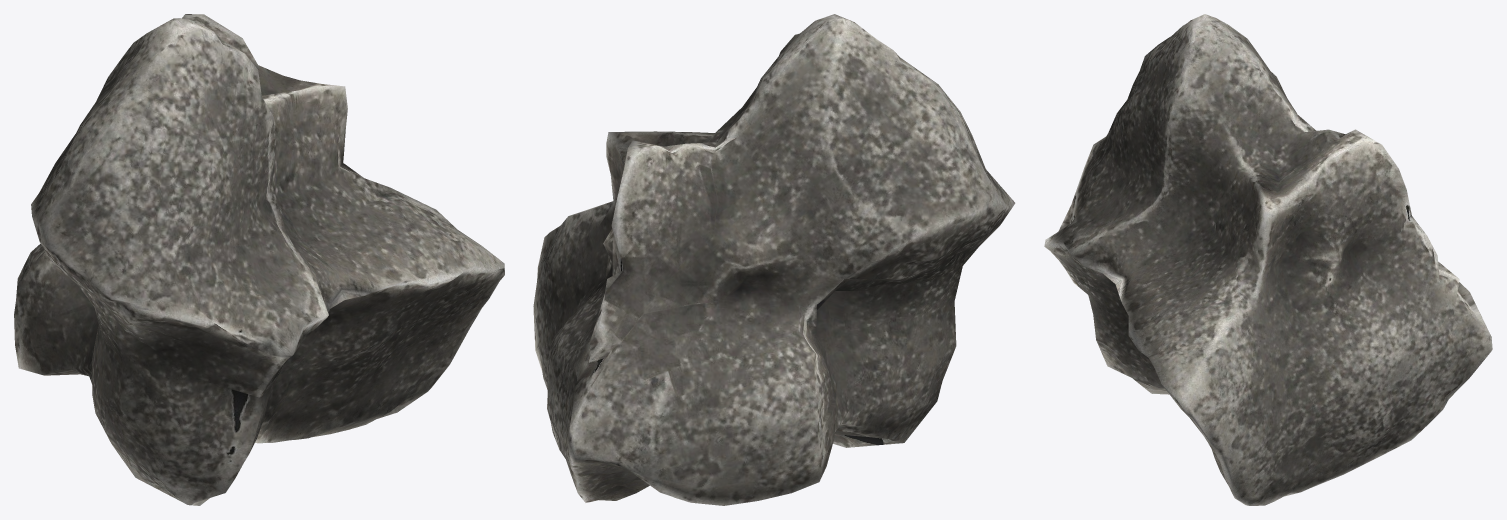
The model's file is rocks_free_essence_node.glb.
The picture shows the model from 3 angles, left to right: view 1: azimuth 30°, elevation 25°; view 2: azimuth 150°, elevation 25°; view 3: azimuth 270°, elevation 25°; orthographic projection. The views are drawn at different scales.
Visible parts, largest first — view 1: rock2_LOD0; view 2: rock2_LOD0; view 3: rock2_LOD0.
Part boxes in pixels (x1,y1,x2,y2): rock2_LOD0: (14,14,504,505); rock2_LOD0: (533,14,1015,505); rock2_LOD0: (1044,14,1492,505).
Bounding box in the file's own units: 5.28 × 5.16 × 5.29.
1 material, 1 textured.
